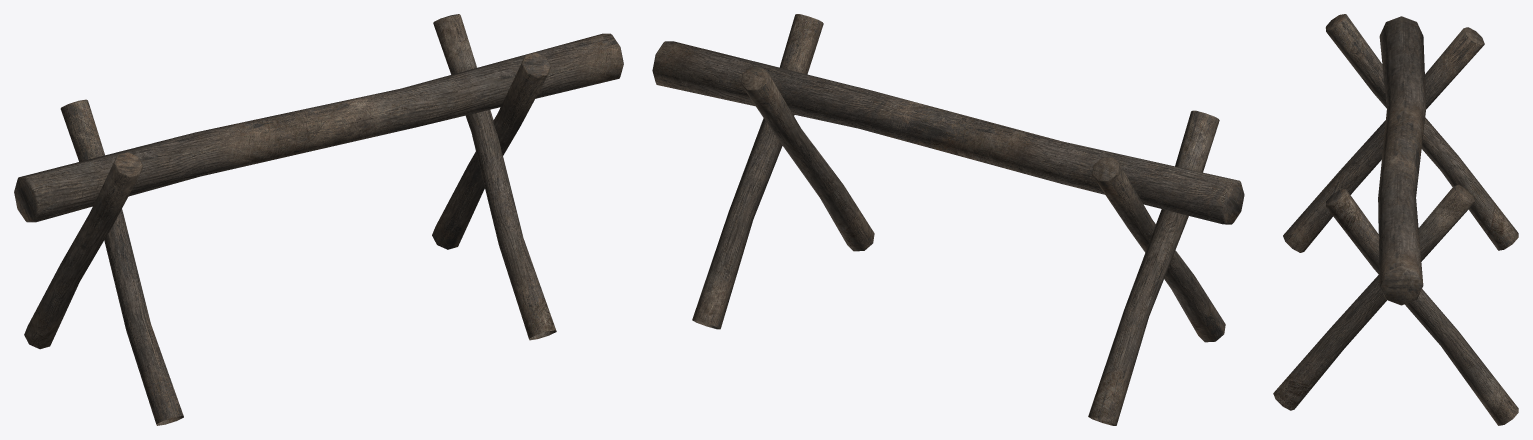
Rendered from Pile_Wood.FBX.
3 renders of one model, left to right at view 1: azimuth 30°, elevation 25°; view 2: azimuth 150°, elevation 25°; view 3: azimuth 270°, elevation 25°, orthographic. The views are drawn at different scales.
Parts seen in each view (by area): view 1: Mesh; view 2: Mesh; view 3: Mesh.
Part boxes in pixels (x1,y1,x2,y2): Mesh: [14, 14, 623, 425]; Mesh: [652, 14, 1244, 425]; Mesh: [1273, 14, 1518, 425].
Size of the model in its own units: 280 by 115 by 119.
